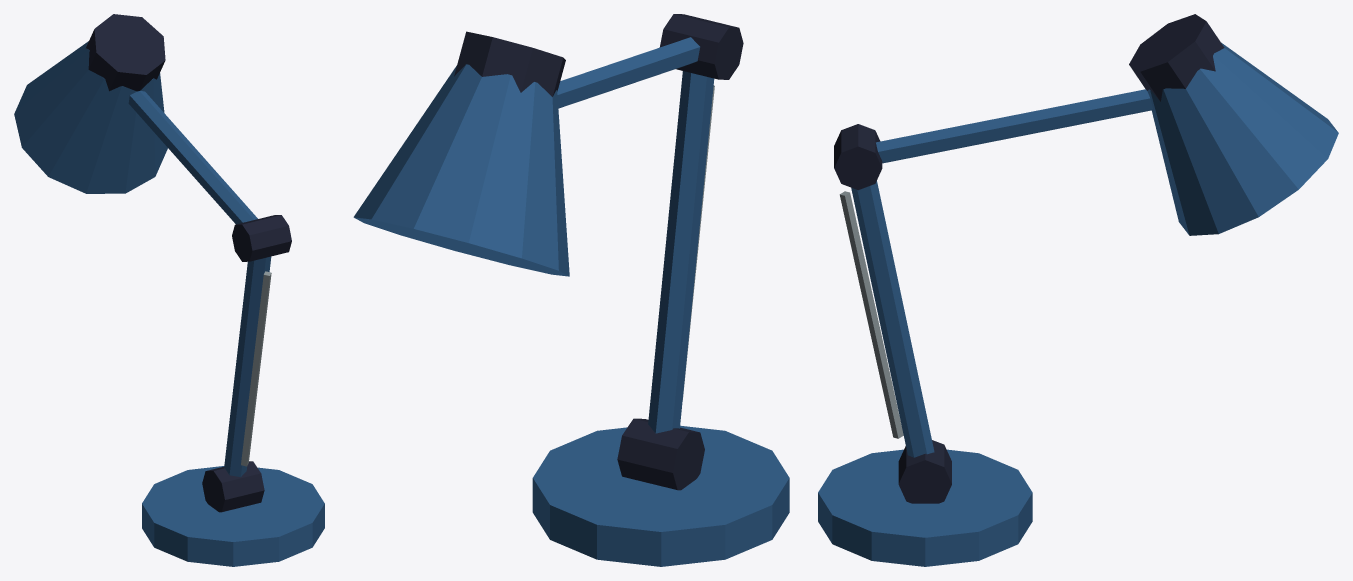
The model's file is sm_env_depot_desk_lamp.glb.
The picture shows the model from 3 angles, left to right: view 1: azimuth 30°, elevation 25°; view 2: azimuth 150°, elevation 25°; view 3: azimuth 270°, elevation 25°; orthographic projection. The views are drawn at different scales.
Visible parts, largest first — view 1: Shade, Base, ShadeCap, ArmLower, ArmUpper, Knuckle, Elbow, Spring; view 2: Shade, Base, ArmLower, Knuckle, ShadeCap, ArmUpper, Elbow; view 3: Shade, Base, ArmLower, ArmUpper, ShadeCap, Spring, Knuckle, Elbow.
Part boxes in pixels (box(x1,y1,x2,y2)): Shade: box(14, 41, 167, 193); Base: box(142, 466, 324, 566); ShadeCap: box(86, 14, 165, 91); ArmLower: box(224, 256, 271, 476); ArmUpper: box(128, 90, 257, 224); Knuckle: box(202, 461, 264, 512); Elbow: box(232, 215, 291, 261); Spring: box(241, 271, 271, 466); Shade: box(353, 64, 569, 276); Base: box(532, 425, 789, 566); ArmLower: box(648, 71, 714, 433); Knuckle: box(617, 418, 704, 490); ShadeCap: box(454, 31, 565, 96); ArmUpper: box(557, 37, 700, 108); Elbow: box(659, 14, 743, 79); Shade: box(1147, 42, 1338, 235); Base: box(818, 449, 1032, 566); ArmLower: box(851, 181, 934, 457); ArmUpper: box(876, 89, 1152, 163); ShadeCap: box(1129, 14, 1224, 101); Spring: box(839, 191, 903, 438); Knuckle: box(898, 440, 951, 503); Elbow: box(834, 124, 882, 190).
Bounding box in the file's own units: 0.16 × 0.4117 × 0.3884.
